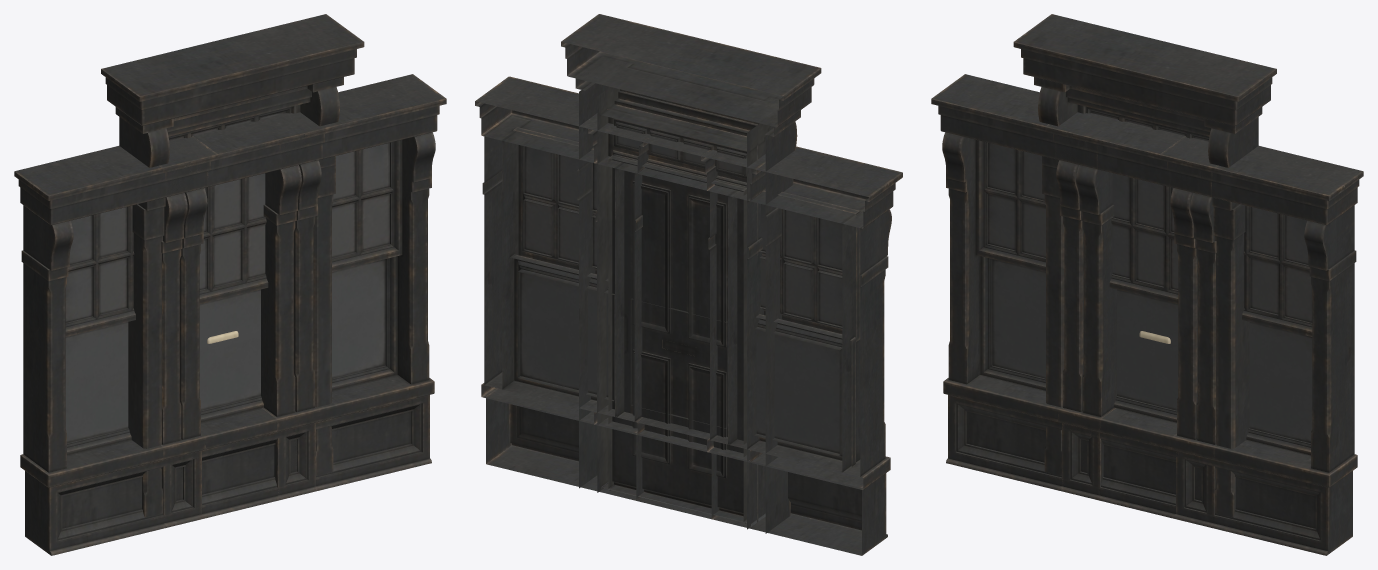
Rendered from facade_details.glb.
3 renders of one model, left to right at view 1: azimuth 30°, elevation 25°; view 2: azimuth 150°, elevation 25°; view 3: azimuth 330°, elevation 25°, orthographic.
Parts seen in each view (by area): view 1: WideWindow, Window, Door; view 2: WideWindow, Door, Window; view 3: WideWindow, Window, Door.
Part boxes in pixels (x1,y1,x2,y2): WideWindow: (14, 74, 446, 555); Window: (159, 112, 332, 526); Door: (101, 14, 364, 517); WideWindow: (475, 76, 902, 555); Door: (561, 14, 821, 533); Window: (588, 126, 765, 527); WideWindow: (931, 74, 1363, 555); Window: (1045, 112, 1218, 526); Door: (1013, 14, 1276, 517).
Bounding box in the file's own units: 2.62 × 2.81 × 0.44.
Materials: 2 (2 with a texture image).
